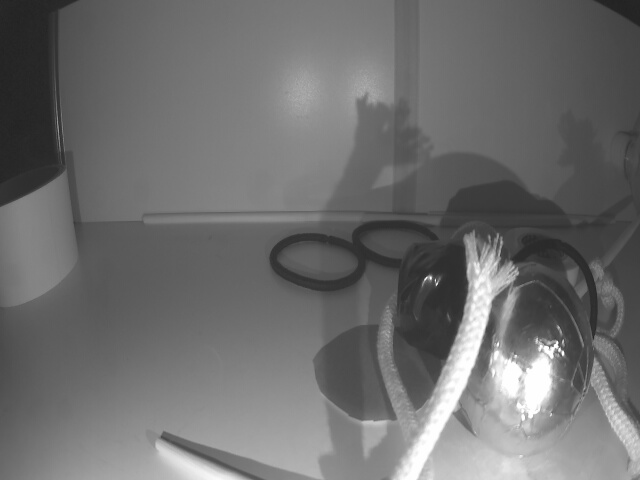Dead: (404, 233, 474, 343)
Live: (463, 265, 590, 450)
